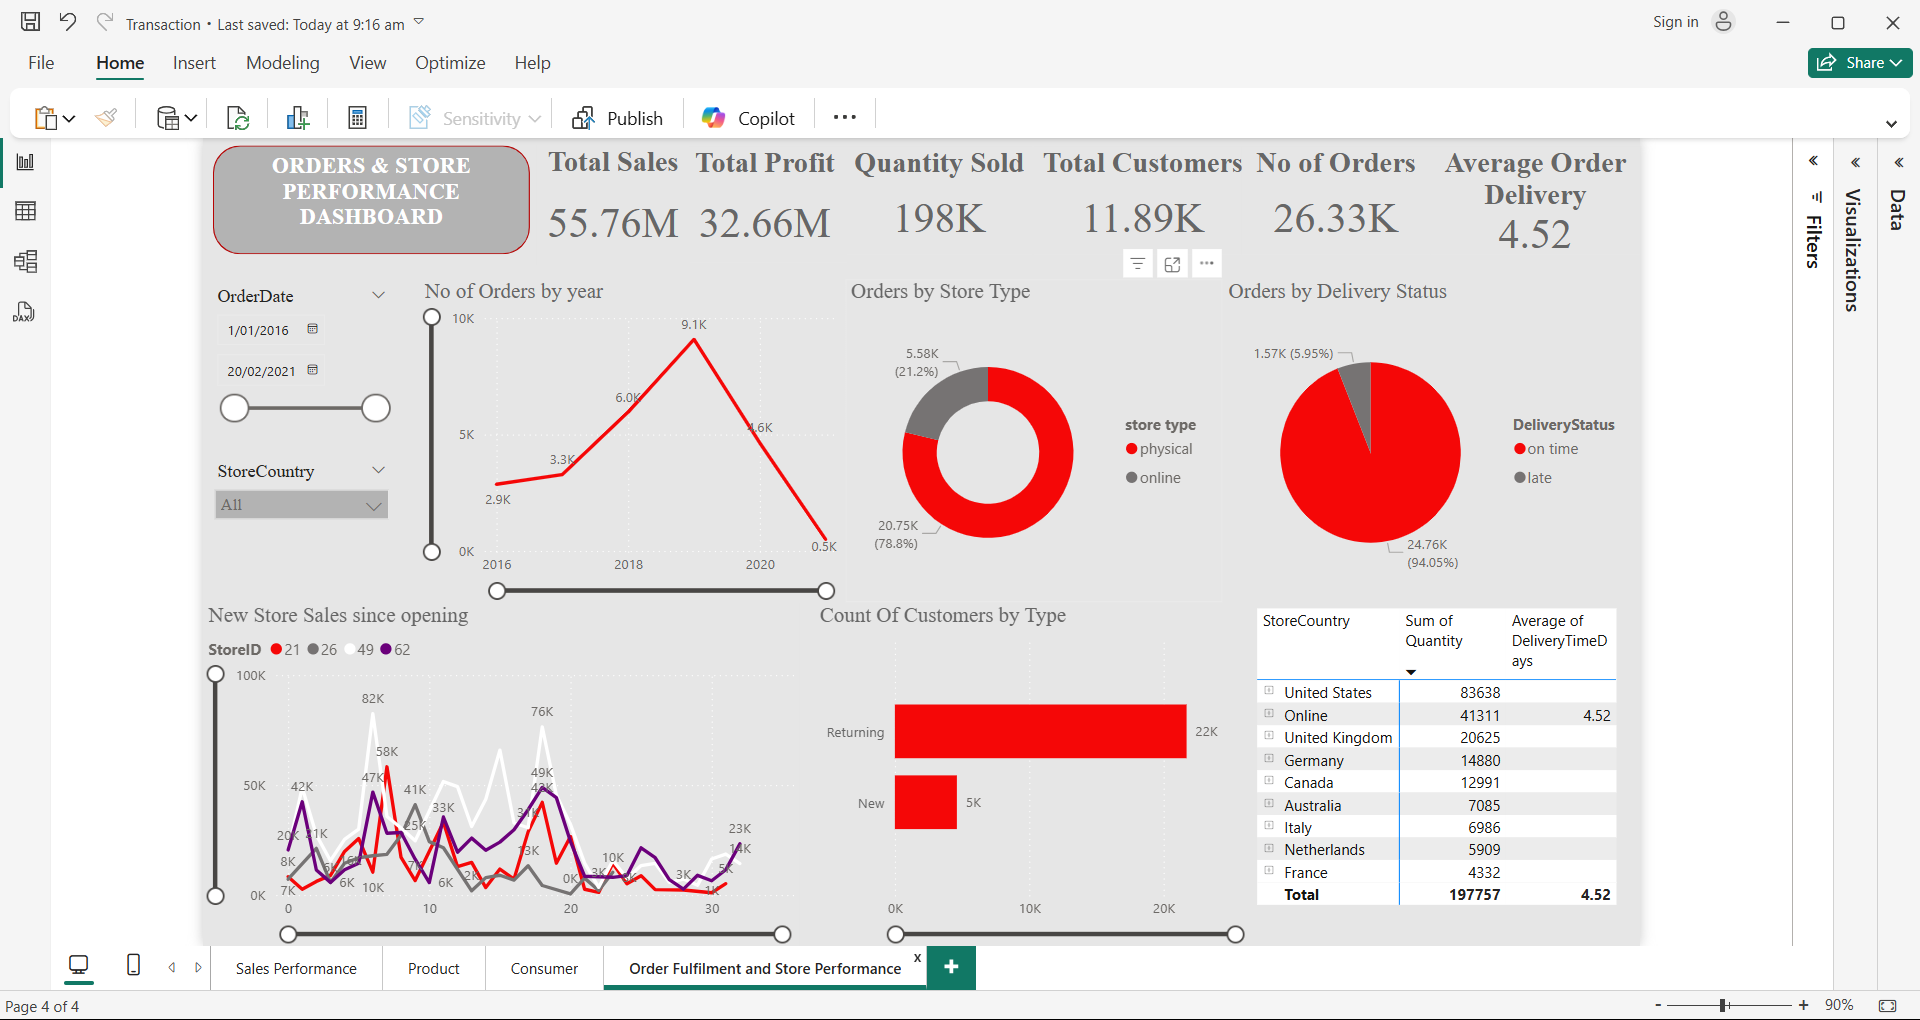

The dashboard page shown, as its layout file describes it:
{"tool":"powerbi","page":{"name":"Order Fulfilment and Store Performance","canvas":[1280,720],"ordinal":3},"visuals":[{"type":"lineChart","title":"No of Orders by year","fields":{"Y":["Count(OrderTable.OrderNumber)"],"Category":["DateTable.year","DateTable.month"]},"box":[192.1,126.2,380.1,288.2],"z":0},{"type":"pivotTable","fields":{"Rows":["Stores.StoreCountry","Stores.StoreState","OrderTable.StoreID"],"Values":["Sum(Transactions.Quantity)","Avg(OrderTable.DeliveryTimeDays)"]},"box":[934.5,414.4,345.8,282.7],"z":1000},{"type":"slicer","fields":{"Values":["Stores.StoreCountry"]},"box":[0,303.3,175.6,86.4],"z":2000},{"type":"card","title":"Total Customers","fields":{"Values":["Count(Order.CustomerID)"]},"box":[671,0,193.5,116.6],"z":4000},{"type":"card","title":"No of Orders","fields":{"Values":["Count(Order.OrderNumber)"]},"box":[864.5,0,168.8,116.6],"z":5000},{"type":"card","title":"Quantity Sold","fields":{"Values":["Sum(Transactions.Quantity)"]},"box":[505,0,166,116.6],"z":6000},{"type":"card","title":"Total Sales","fields":{"Values":["Transactions.Total_Sales"]},"box":[223.7,0,135.8,116.6],"z":7000},{"type":"card","title":"Total Profit","fields":{"Values":["Transactions.Total_Profit"]},"box":[359.5,0,145.5,116.6],"z":8000},{"type":"card","title":"Average Order Delivery","fields":{"Values":["OrderTable.OrderProcessingTime"]},"box":[1033.3,0,247,116.6],"z":9000},{"type":"pieChart","title":"Orders by Delivery Status","fields":{"Category":["OrderTable.DeliveryStatus"],"Y":["CountNonNull(OrderTable.OrderNumber)"]},"box":[908.4,126.2,369.1,288.2],"z":10000},{"type":"donutChart","title":"Orders by Store Type","fields":{"Category":["Stores.store type"],"Y":["CountNonNull(OrderTable.OrderNumber)"]},"box":[572.2,126.2,336.2,288.2],"z":11000},{"type":"barChart","title":"Count Of Customers by Type","fields":{"Category":["OrderTable.Cust_type"],"Y":["CountNonNull(OrderTable.OrderNumber)"]},"box":[544.8,414.4,389.7,306],"z":12000},{"type":"lineChart","title":"New Store Sales since opening","fields":{"Category":["OrderTable.MonthsSinceOpening"],"Y":["Sum(Transactions.Sales)"],"Series":["OrderTable.StoreID"]},"box":[0,414.4,531,306],"z":13000},{"type":"slicer","fields":{"Values":["Order.OrderDate"]},"box":[0,159.2,175.6,156.4],"z":14000}]}

Visuals, with their boxes on the page's 1280x720 design canvas (x1, y1, x2, y2). These are canvas units, not pixel positions in the 1920x1020 screenshot, which may show the page scaled, cropped or inside an application window:
"No of Orders by year" lineChart: detection(192, 126, 572, 414)
pivotTable - Stores.StoreCountry x Stores.StoreState: detection(934, 414, 1280, 697)
slicer - Stores.StoreCountry: detection(0, 303, 176, 390)
"Total Customers" card: detection(671, 0, 864, 117)
"No of Orders" card: detection(864, 0, 1033, 117)
"Quantity Sold" card: detection(505, 0, 671, 117)
"Total Sales" card: detection(224, 0, 360, 117)
"Total Profit" card: detection(360, 0, 505, 117)
"Average Order Delivery" card: detection(1033, 0, 1280, 117)
"Orders by Delivery Status" pieChart: detection(908, 126, 1278, 414)
"Orders by Store Type" donutChart: detection(572, 126, 908, 414)
"Count Of Customers by Type" barChart: detection(545, 414, 934, 720)
"New Store Sales since opening" lineChart: detection(0, 414, 531, 720)
slicer - Order.OrderDate: detection(0, 159, 176, 316)
